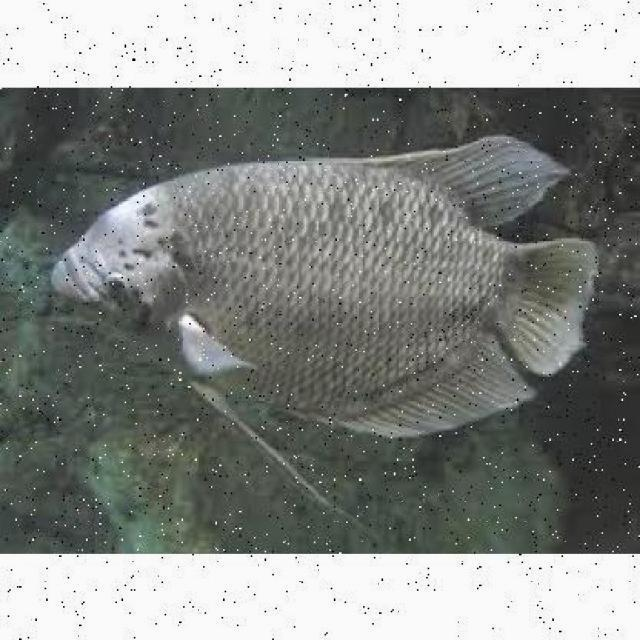gurame: (53, 140, 590, 414)
